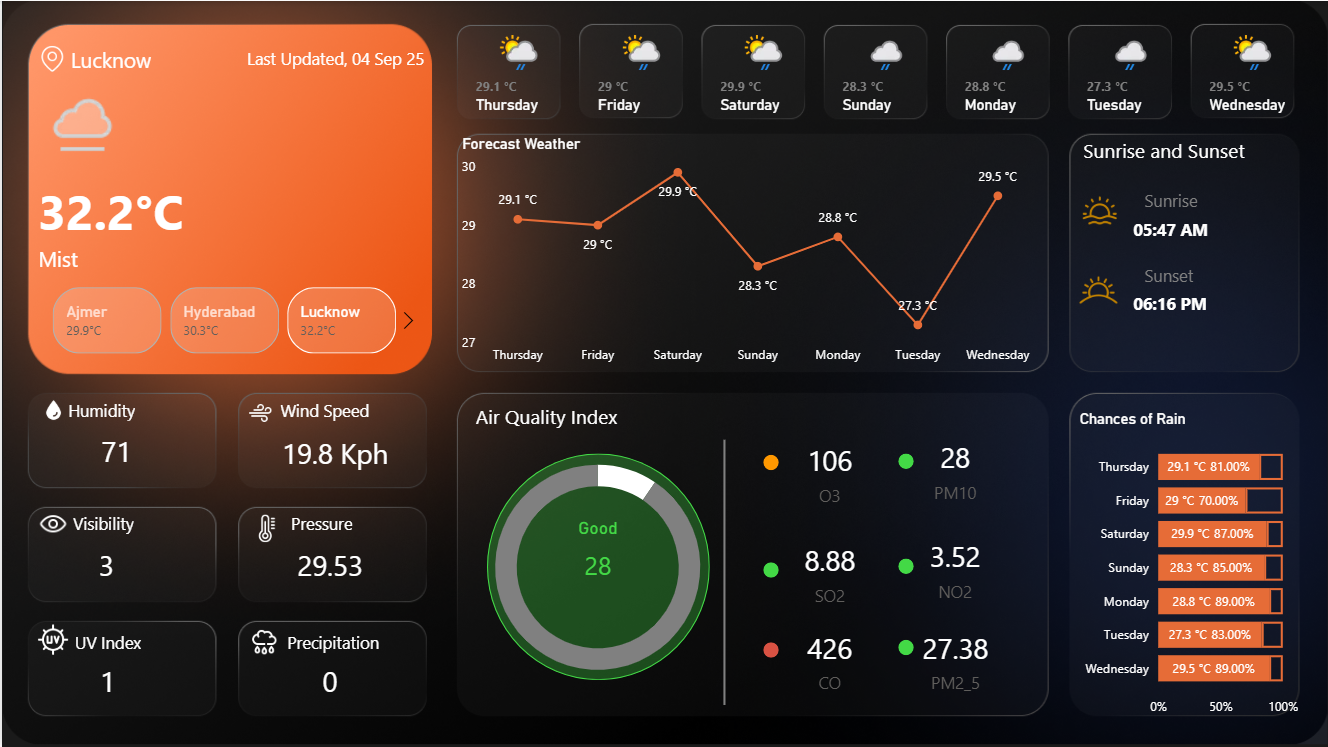

The page's visual inventory and layout, read from the dashboard file:
{"tool":"powerbi","page":{"name":"Page 1","canvas":[1280,720],"ordinal":0},"visuals":[{"type":"shape","box":[467.5,436.2,215,218.8],"z":0},{"type":"advancedSlicerVisual","fields":{"Values":["Location.location.name"]},"box":[24.4,271.8,383.3,74.4],"z":1000},{"type":"shape","box":[34.6,155.1,192.3,93.6],"z":2000},{"type":"shape","box":[66.7,33.3,121.8,46.2],"z":3000},{"type":"shape","box":[176.2,32.5,231.2,46.2],"z":4000},{"type":"image","box":[24.4,38.5,48.7,34.6],"z":5000},{"type":"cardVisual","fields":{"Data":["Min(Current.current.condition.icon)"]},"box":[16.7,56.4,112.8,106.4],"z":6000},{"type":"shape","box":[56.4,480.8,70.5,46.2],"z":7000},{"type":"shape","box":[57.7,371.8,70.5,46.2],"z":8000},{"type":"shape","box":[256.4,375.6,97.4,38.5],"z":9000},{"type":"shape","box":[267.9,480.8,70.5,46.2],"z":10000},{"type":"shape","box":[50,596.2,84.6,46.2],"z":11000},{"type":"shape","box":[267.9,596.2,96.2,46.2],"z":12000},{"type":"image","box":[34.6,375.6,29.5,38.5],"z":13000},{"type":"image","box":[26.9,484.6,46.2,39.7],"z":14000},{"type":"image","box":[230.8,380.8,37.2,33.3],"z":15000},{"type":"image","box":[21.8,596.2,55.1,41],"z":16000},{"type":"image","box":[233.3,491,44.9,35.9],"z":17000},{"type":"image","box":[229.5,600,48.7,38.5],"z":18000},{"type":"card","fields":{"Values":["Sum(Current.current.humidity)"]},"box":[57.7,394.9,105.1,83.3],"z":19000},{"type":"shape","box":[34.6,225.6,192.3,46.2],"z":20000},{"type":"card","fields":{"Values":["_Measures.Wind_Speed"]},"box":[256.4,405.1,129.5,64.1],"z":21000},{"type":"card","fields":{"Values":["Sum(Current.current.pressure_in)"]},"box":[264.1,503.8,105.1,83.3],"z":22000},{"type":"card","fields":{"Values":["Sum(Current.current.vis_miles)"]},"box":[48.7,503.8,105.1,83.3],"z":23000},{"type":"card","fields":{"Values":["Sum(Current.current.uv)"]},"box":[50,616.7,105.1,83.3],"z":24000},{"type":"card","fields":{"Values":["Sum(Current.current.precip_in)"]},"box":[264.1,616.7,105.1,83.3],"z":25000},{"type":"advancedSlicerVisual","fields":{"Values":["Forecast_Day.Day_Name"]},"box":[439.7,20.5,829.5,103.8],"z":26000},{"type":"lineChart","title":"Forecast Weather","fields":{"Category":["Forecast_Day.Day_Name"],"Y":["Sum(Forecast_Day.forecast.forecastday.day.avgtemp_c)"]},"box":[439.7,129.5,564.1,230.8],"z":27000},{"type":"shape","box":[1043.6,124.4,182.1,38.5],"z":28000},{"type":"shape","box":[1092.3,202.6,117.9,34.6],"z":29000},{"type":"shape","box":[1092.3,271.8,117.9,39.7],"z":30000},{"type":"shape","box":[1102.6,173.1,97.4,38.5],"z":31000},{"type":"shape","box":[1102.6,244.9,97.4,38.5],"z":32000},{"type":"image","box":[1024.4,250,67.9,59],"z":33000},{"type":"image","box":[1034.6,180.8,48.7,42.3],"z":34000},{"type":"shape","box":[457.7,380.8,182.1,38.5],"z":35000},{"type":"hundredPercentStackedBarChart","title":"Chances of Rain","fields":{"Y":["Sum(Forecast_Day.forecast.forecastday.day.daily_chance_of_rain)","_Measures.Left_value_Rain"],"Category":["Forecast_Day.Day_Name"]},"box":[1035,395,221.2,305],"z":36000},{"type":"card","fields":{"Values":["Sum(Current.current.air_quality.pm10)"]},"box":[855.1,414.1,129.5,76.9],"z":37000},{"type":"card","fields":{"Values":["Sum(Current.current.air_quality.no2)"]},"box":[855.1,509,129.5,78.2],"z":38000},{"type":"card","fields":{"Values":["Sum(Current.current.air_quality.pm2_5)"]},"box":[855,600,130,73.8],"z":39000},{"type":"card","fields":{"Values":["Sum(Current.current.air_quality.o3)"]},"box":[735,420,128.8,71.2],"z":40000},{"type":"card","fields":{"Values":["Sum(Current.current.air_quality.so2)"]},"box":[735,516.2,128.8,71.2],"z":41000},{"type":"card","fields":{"Values":["Sum(Current.current.air_quality.co)"]},"box":[735,600,128.8,73.8],"z":42000},{"type":"shape","box":[865,436.2,15,15],"z":43000},{"type":"shape","box":[735,618.8,15,15],"z":44000},{"type":"shape","box":[735,541.2,15,15],"z":45000},{"type":"shape","box":[735,437.5,15,15],"z":46000},{"type":"shape","box":[865,537.5,15,15],"z":47000},{"type":"shape","box":[865,616.2,15,15],"z":48000},{"type":"shape","box":[595,423.8,205,256.2],"z":49000},{"type":"card","fields":{"Values":["Sum(Current.current.air_quality.pm10)"]},"box":[510,498.8,130,77.5],"z":50000},{"type":"donutChart","fields":{"Y":["Sum(Current.current.air_quality.pm10)","_Measures.Left_value_PM10"]},"box":[446.2,401.2,257.5,290],"z":51000}]}

Visuals, with their boxes in screenshot pixels (x1, y1, x2, y2), scaled from the page's 1280x720 canvas onto the 1328x747 screenshot:
shape: 485, 453, 708, 680
advancedSlicerVisual - Location.location.name: 25, 282, 423, 359
shape: 36, 161, 235, 258
shape: 69, 35, 196, 82
shape: 183, 34, 423, 82
image: 25, 40, 76, 76
cardVisual - Min(Current.current.condition.icon): 17, 59, 134, 169
shape: 59, 499, 132, 547
shape: 60, 386, 133, 434
shape: 266, 390, 367, 430
shape: 278, 499, 351, 547
shape: 52, 619, 140, 666
shape: 278, 619, 378, 666
image: 36, 390, 67, 430
image: 28, 503, 76, 544
image: 239, 395, 278, 430
image: 23, 619, 80, 661
image: 242, 509, 289, 547
image: 238, 622, 289, 662
card - Sum(Current.current.humidity): 60, 410, 169, 496
shape: 36, 234, 235, 282
card - _Measures.Wind_Speed: 266, 420, 400, 487
card - Sum(Current.current.pressure_in): 274, 523, 383, 609
card - Sum(Current.current.vis_miles): 51, 523, 160, 609
card - Sum(Current.current.uv): 52, 640, 161, 726
card - Sum(Current.current.precip_in): 274, 640, 383, 726
advancedSlicerVisual - Forecast_Day.Day_Name: 456, 21, 1317, 129
"Forecast Weather" lineChart: 456, 134, 1041, 374
shape: 1083, 129, 1272, 169
shape: 1133, 210, 1256, 246
shape: 1133, 282, 1256, 323
shape: 1144, 180, 1245, 220
shape: 1144, 254, 1245, 294
image: 1063, 259, 1133, 321
image: 1073, 188, 1124, 231
shape: 475, 395, 664, 435
"Chances of Rain" hundredPercentStackedBarChart: 1074, 410, 1303, 726
card - Sum(Current.current.air_quality.pm10): 887, 430, 1022, 509
card - Sum(Current.current.air_quality.no2): 887, 528, 1022, 609
card - Sum(Current.current.air_quality.pm2_5): 887, 622, 1022, 699
card - Sum(Current.current.air_quality.o3): 763, 436, 896, 510
card - Sum(Current.current.air_quality.so2): 763, 536, 896, 609
card - Sum(Current.current.air_quality.co): 763, 622, 896, 699
shape: 897, 453, 913, 468
shape: 763, 642, 778, 658
shape: 763, 561, 778, 577
shape: 763, 454, 778, 469
shape: 897, 558, 913, 573
shape: 897, 639, 913, 655
shape: 617, 440, 830, 706
card - Sum(Current.current.air_quality.pm10): 529, 518, 664, 598
donutChart - Sum(Current.current.air_quality.pm10) x _Measures.Left_value_PM10: 463, 416, 730, 717
